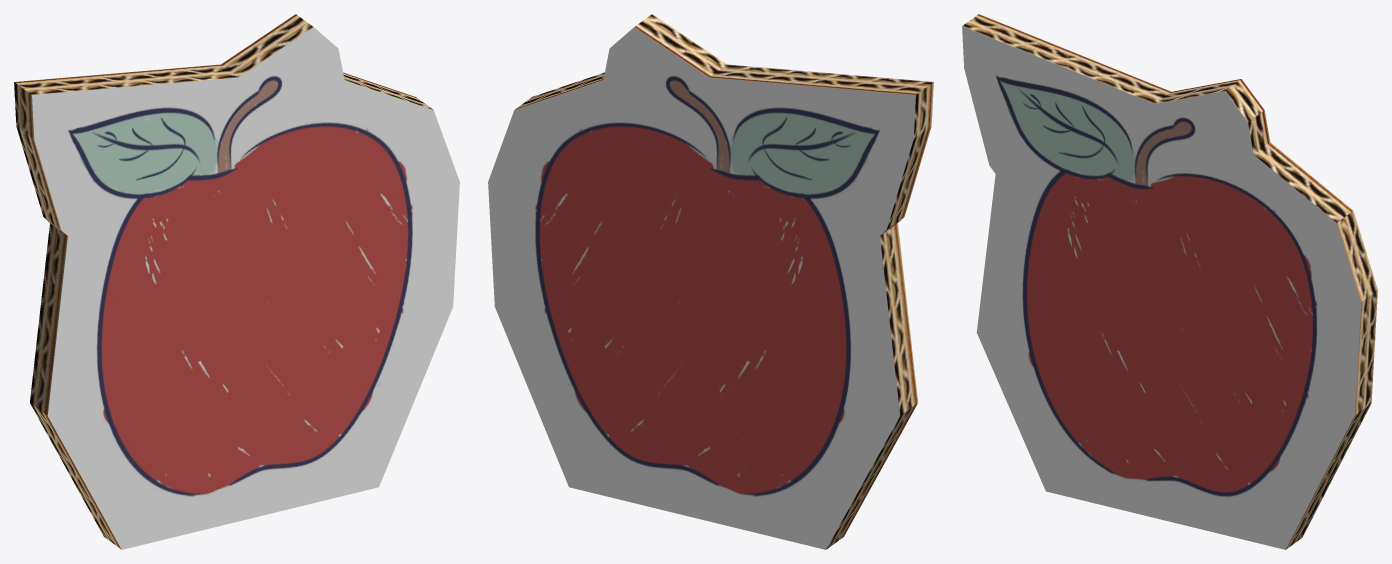
File: Apple1.fbx
3 renders of one model, left to right at view 1: azimuth 30°, elevation 25°; view 2: azimuth 150°, elevation 25°; view 3: azimuth 330°, elevation 25°, orthographic. The views are drawn at different scales.
Visible parts, largest first — view 1: Vert.001, Vert.002; view 2: Vert.001, Vert.002; view 3: Vert.001, Vert.002.
Part boxes in pixels (x1,y1,x2,y2): Vert.001: (32, 27, 459, 549); Vert.002: (14, 14, 432, 549); Vert.001: (488, 27, 915, 549); Vert.002: (515, 14, 933, 549); Vert.001: (962, 26, 1361, 549); Vert.002: (962, 14, 1377, 549).
Bounding box in the file's own units: 20.9 × 22.25 × 1.52.
1 material, 1 textured.
